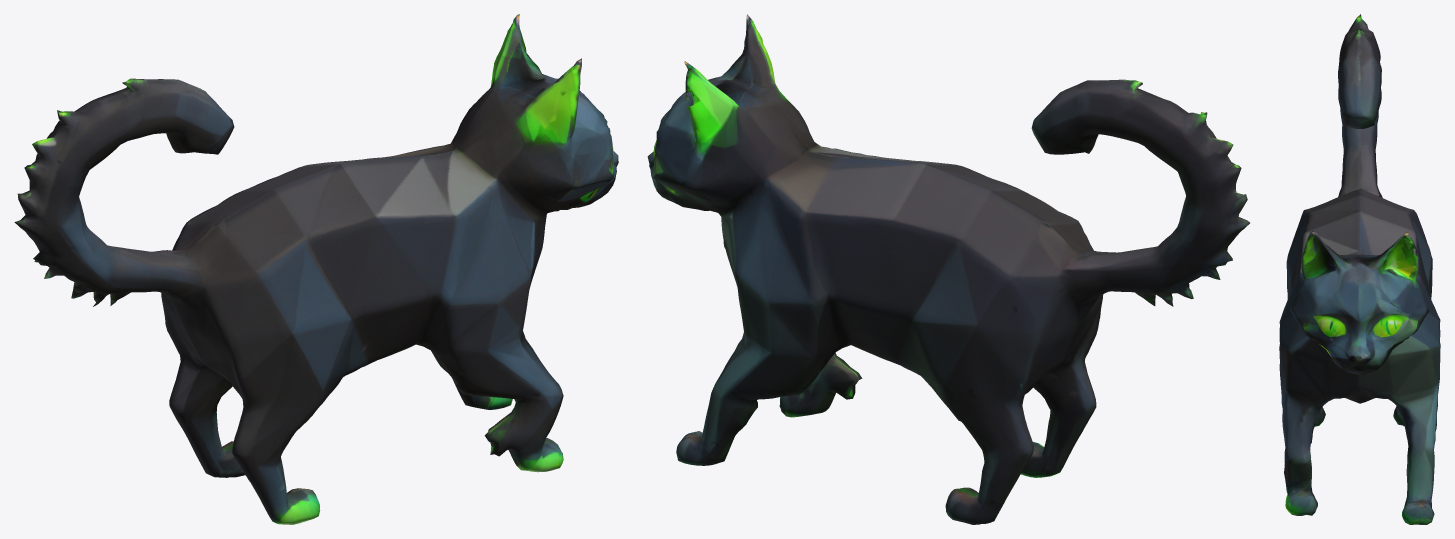
The model's file is blackcat1.glb.
3 renders of one model, left to right at view 1: azimuth 30°, elevation 25°; view 2: azimuth 150°, elevation 25°; view 3: azimuth 270°, elevation 25°, orthographic. The views are drawn at different scales.
Size of the model in its own units: 2 by 1.43 by 0.6097.
Materials: 1 (1 with a texture image).
